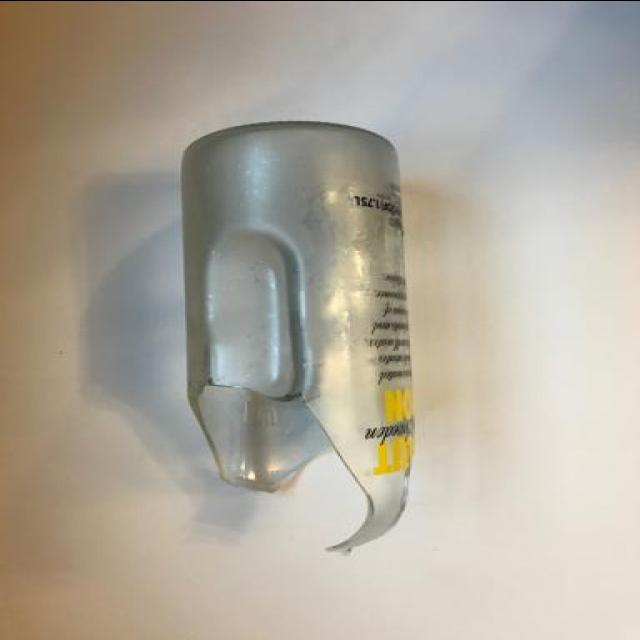Glass Bottle: (188, 114, 414, 556)
